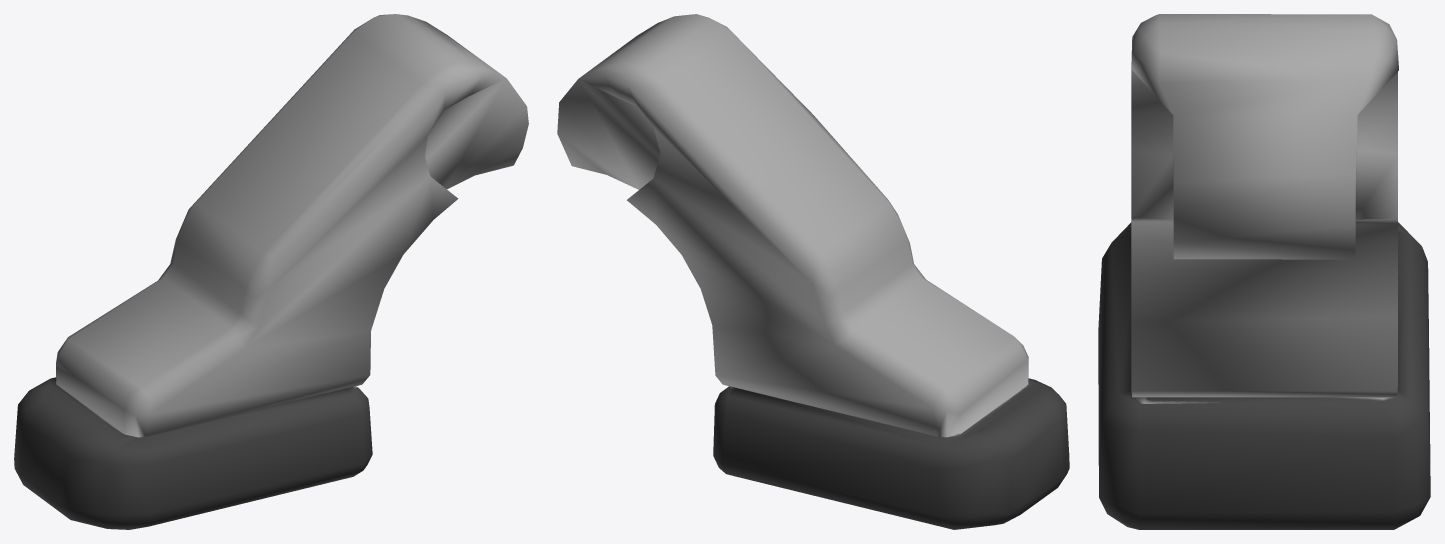
File: r_gripper_l_finger_tip_link.OBJ
3 views of the same model, side by side, from view 1: azimuth 30°, elevation 25°; view 2: azimuth 150°, elevation 25°; view 3: azimuth 270°, elevation 25° (orthographic). The views are drawn at different scales.
Parts seen in each view (by area): view 1: /ambf/env/pr2/r_gripper_l_finger_tip_link_/ambf/env/pr2/r_grippe; view 2: /ambf/env/pr2/r_gripper_l_finger_tip_link_/ambf/env/pr2/r_grippe; view 3: /ambf/env/pr2/r_gripper_l_finger_tip_link_/ambf/env/pr2/r_grippe.
Part boxes in pixels (x1,y1,x2,y2): /ambf/env/pr2/r_gripper_l_finger_tip_link_/ambf/env/pr2/r_grippe: (14, 14, 528, 529); /ambf/env/pr2/r_gripper_l_finger_tip_link_/ambf/env/pr2/r_grippe: (557, 14, 1069, 529); /ambf/env/pr2/r_gripper_l_finger_tip_link_/ambf/env/pr2/r_grippe: (1098, 14, 1430, 529).
Bounding box in the file's own units: 0.0568 × 0.0447 × 0.0228.
